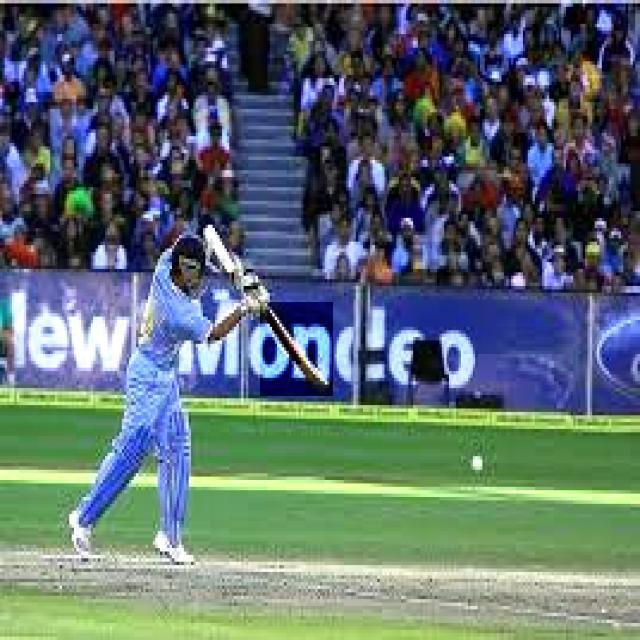bat: (259, 303, 335, 397)
toe: (312, 373, 340, 398)
